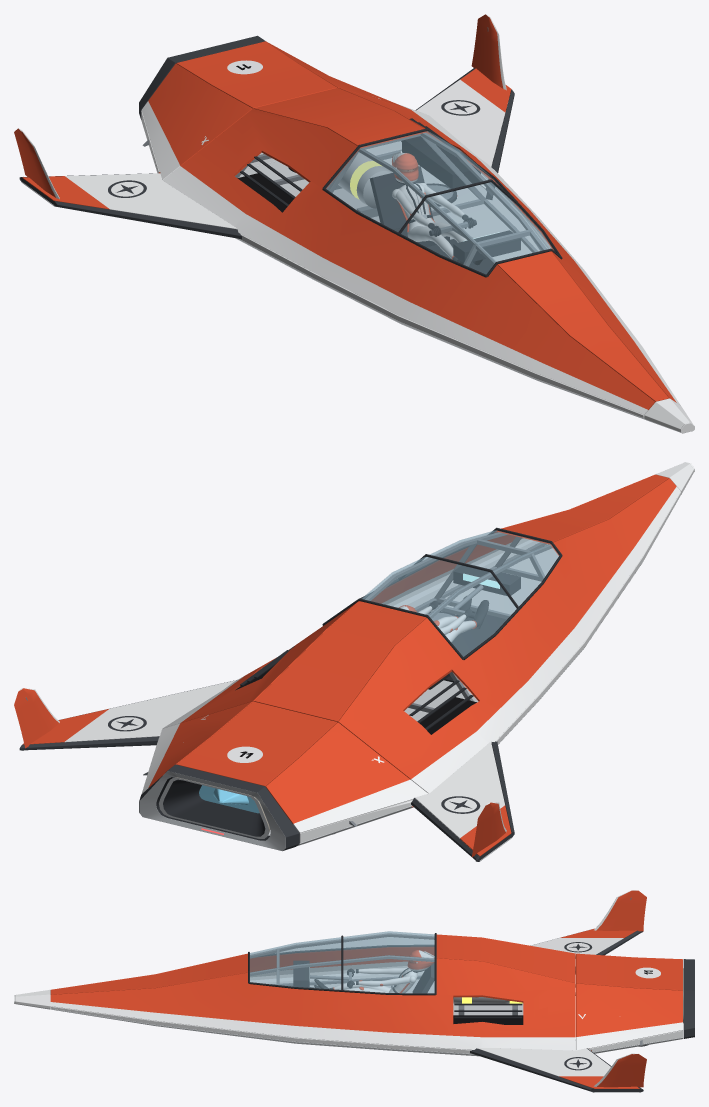
The model's file is vortex.fbx.
3 views of the same model, one above another, from view 1: azimuth 30°, elevation 25°; view 2: azimuth 150°, elevation 25°; view 3: azimuth 270°, elevation 25° (orthographic). The views are drawn at different scales.
Parts seen in each view (by area): view 1: Body_Facet_L, Body_Top, Tail_Facet_L, Tail_Top, Wing_Top_L, Body_Facet_R, Wing_Top_R, Body_Belly, Cockpit_Parts, Pilot, Radiators, Body_Edge_L (+12 smaller); view 2: Body_Facet_L, Body_Top, Tail_Facet_L, Tail_Top, Body_Facet_R, Wing_Top_R, Wing_Top_L, Engine, Tail_Collar, Body_Belly, Tail_Facet_R, Cockpit_Parts (+11 smaller); view 3: Body_Facet_R, Body_Top, Tail_Facet_R, Body_Facet_L, Tail_Top, Wing_Top_R, Body_Edge_R, Pilot, Longerons, Wing_Fold_L, Wing_Top_L, Wing_Fold_R (+12 smaller).
Part boxes in pixels (bbox=[...]): Body_Facet_L: bbox=[163, 108, 655, 414]; Body_Top: bbox=[254, 88, 668, 401]; Tail_Facet_L: bbox=[141, 63, 252, 179]; Tail_Top: bbox=[176, 41, 336, 108]; Wing_Top_L: bbox=[22, 173, 236, 228]; Body_Facet_R: bbox=[338, 88, 680, 405]; Wing_Top_R: bbox=[416, 68, 511, 188]; Body_Belly: bbox=[238, 141, 551, 261]; Cockpit_Parts: bbox=[370, 166, 520, 274]; Pilot: bbox=[392, 151, 482, 264]; Radiators: bbox=[237, 118, 480, 212]; Body_Edge_L: bbox=[240, 234, 644, 417]; Body_Facet_L: bbox=[338, 478, 680, 793]; Body_Top: bbox=[254, 474, 668, 722]; Tail_Facet_L: bbox=[266, 722, 427, 833]; Tail_Top: bbox=[176, 701, 337, 786]; Body_Facet_R: bbox=[163, 474, 654, 728]; Wing_Top_R: bbox=[22, 680, 236, 744]; Wing_Top_L: bbox=[415, 742, 511, 856]; Engine: bbox=[159, 777, 270, 838]; Tail_Collar: bbox=[139, 764, 299, 851]; Body_Belly: bbox=[404, 541, 558, 721]; Tail_Facet_R: bbox=[141, 701, 252, 793]; Cockpit_Parts: bbox=[428, 564, 520, 689]; Body_Facet_R: bbox=[50, 955, 575, 1050]; Body_Top: bbox=[50, 931, 575, 994]; Tail_Facet_R: bbox=[576, 983, 682, 1050]; Body_Facet_L: bbox=[52, 931, 575, 989]; Tail_Top: bbox=[576, 954, 682, 990]; Wing_Top_R: bbox=[478, 1040, 639, 1088]; Body_Edge_R: bbox=[50, 1006, 471, 1053]; Pilot: bbox=[314, 950, 434, 993]; Longerons: bbox=[250, 933, 575, 987]; Wing_Fold_L: bbox=[594, 890, 646, 931]; Wing_Top_L: bbox=[531, 928, 636, 966]; Wing_Fold_R: bbox=[594, 1053, 646, 1087].
Bounding box in the file's own units: 332 × 69.5 × 583.
